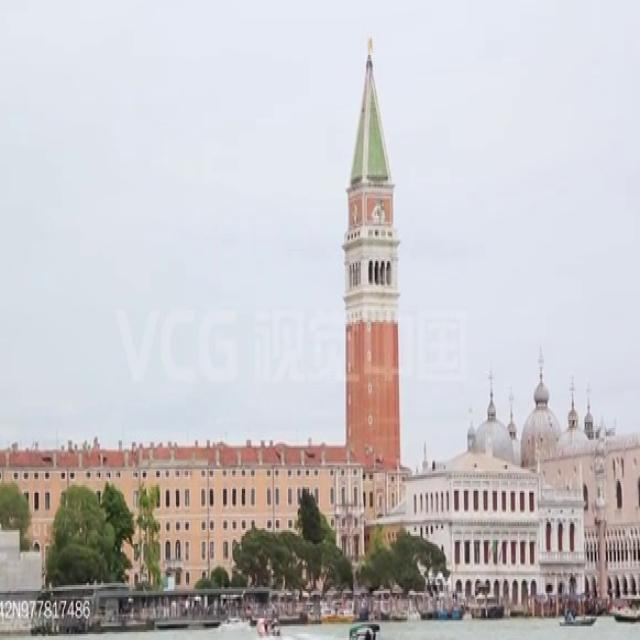houseboat: (327, 614, 400, 640), (612, 590, 640, 628), (255, 608, 281, 638), (560, 606, 595, 626)
